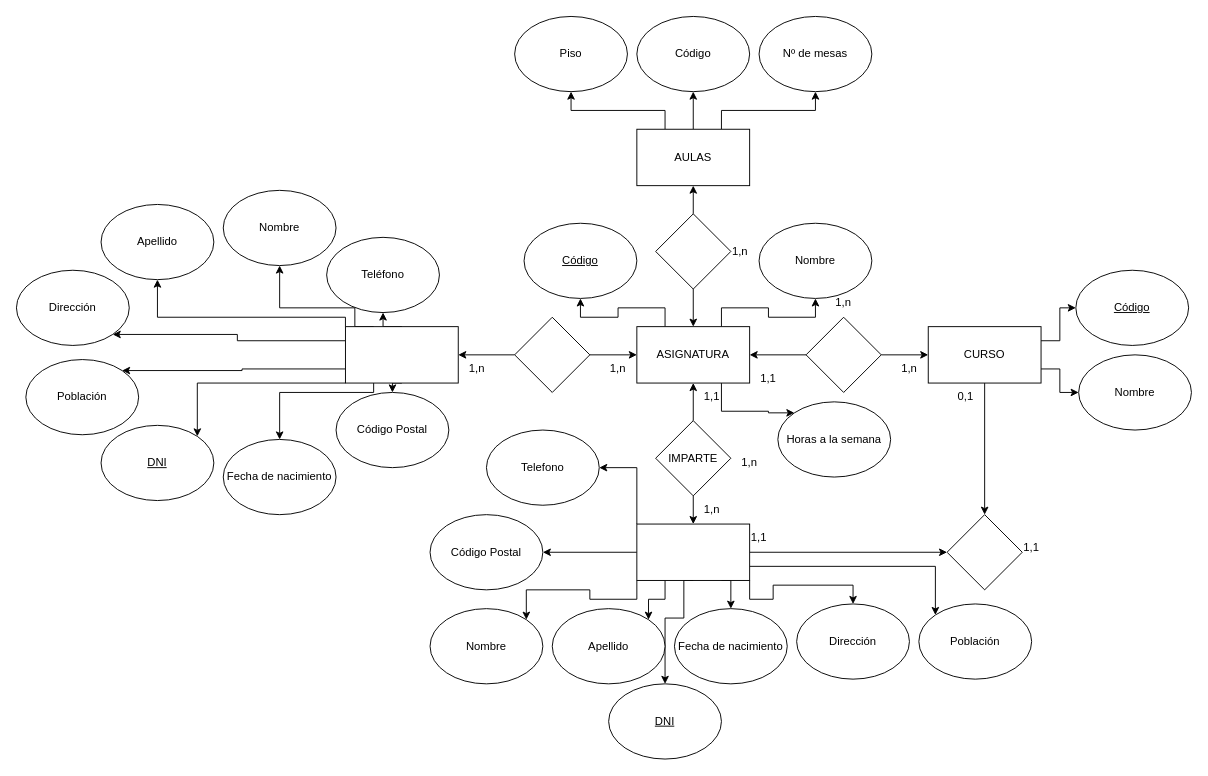
Some shapes in this 1208 by 776 pixel diagram are drawn without their labels. Each missing label, with the box of its shape:
ALUMNO: (345, 326, 458, 383)
EN: (655, 213, 731, 289)
LLEVA: (805, 316, 881, 392)
MATRICULA: (514, 316, 590, 392)
PROFESOR: (636, 523, 750, 580)
TUTOR: (946, 514, 1022, 590)
